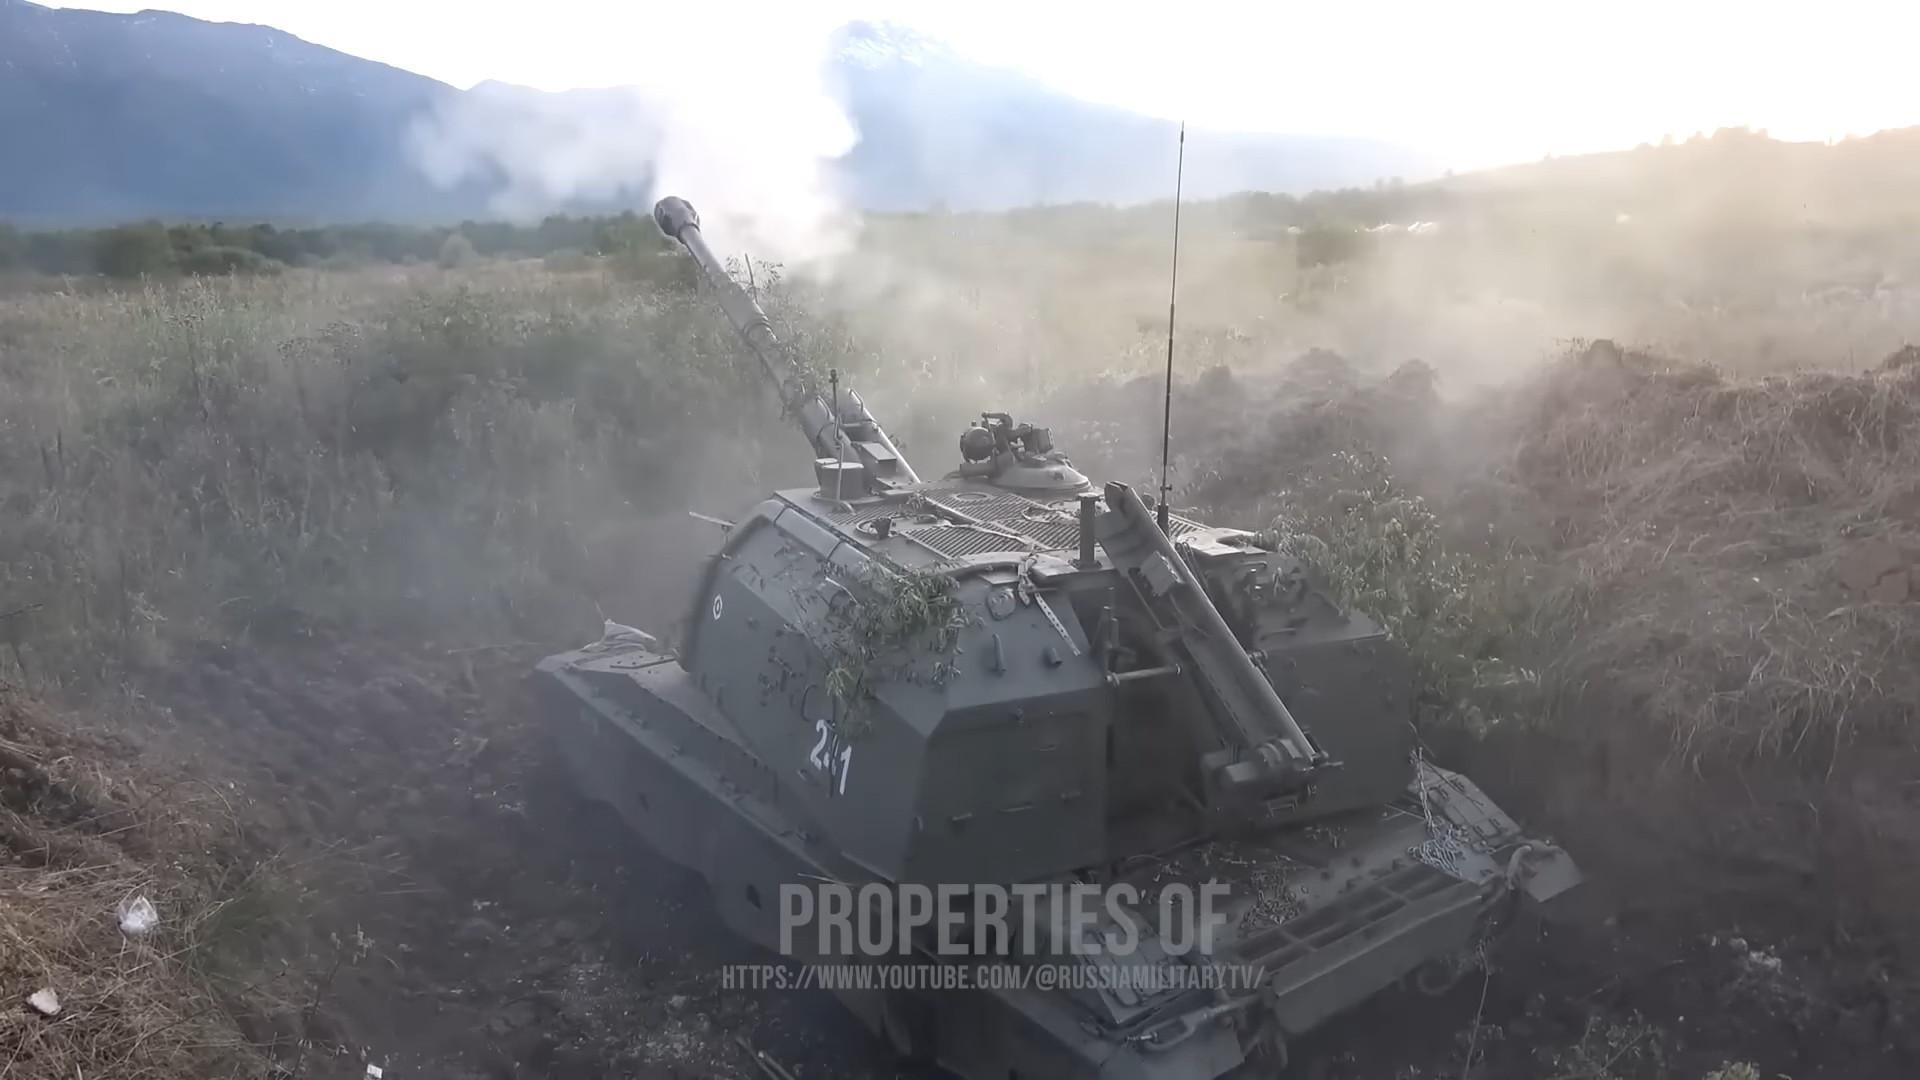tank: (529, 199, 1582, 1079)
